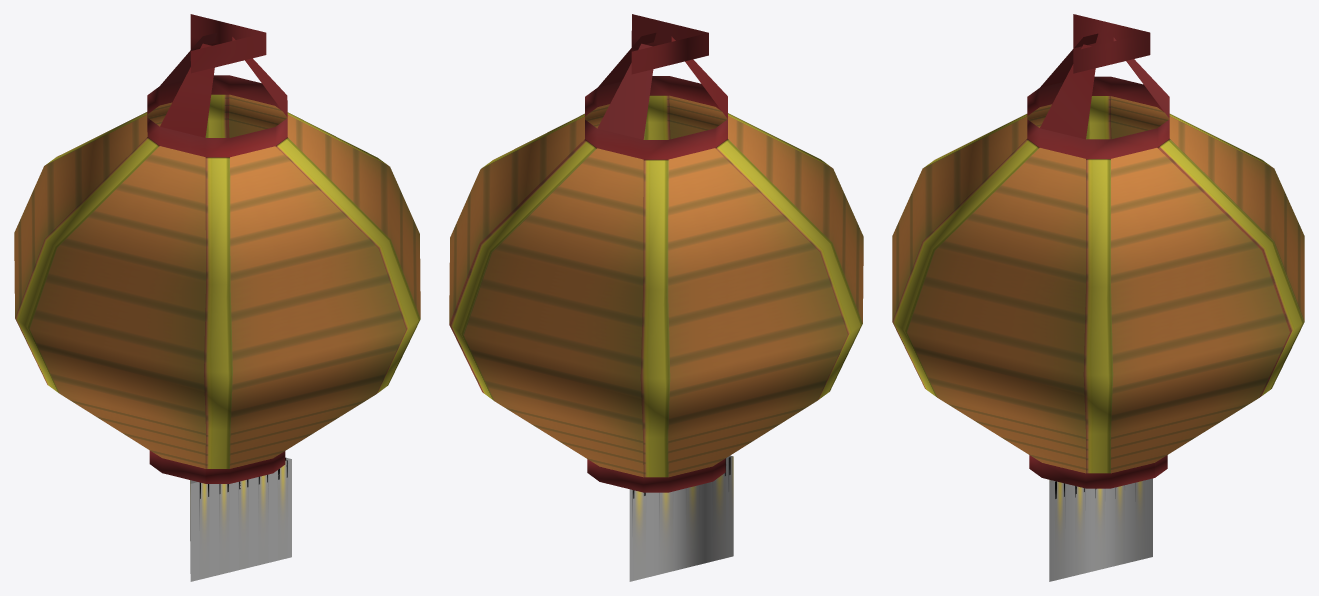
Rendered from Lamp03_Art.fbx.
3 renders of one model, left to right at view 1: azimuth 30°, elevation 25°; view 2: azimuth 150°, elevation 25°; view 3: azimuth 270°, elevation 25°, orthographic.
Parts seen in each view (by area): view 1: Lamp03_Art; view 2: Lamp03_Art; view 3: Lamp03_Art.
Part boxes in pixels (x1,y1,x2,y2): Lamp03_Art: (14, 14, 420, 581); Lamp03_Art: (449, 14, 863, 581); Lamp03_Art: (892, 14, 1304, 581).
Size of the model in its own units: 1.4 by 1.78 by 1.27.
